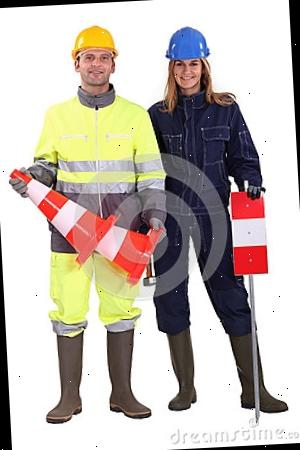helmet: (162, 24, 212, 66), (70, 23, 119, 60)
wear: (43, 99, 148, 246), (143, 94, 242, 220)
